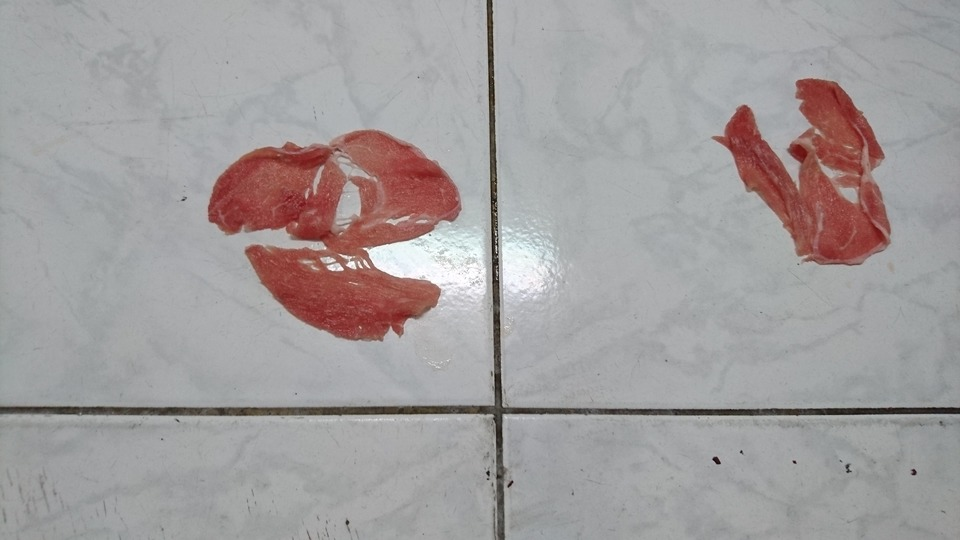restructured meat: (212, 119, 443, 343), (719, 58, 889, 270)
